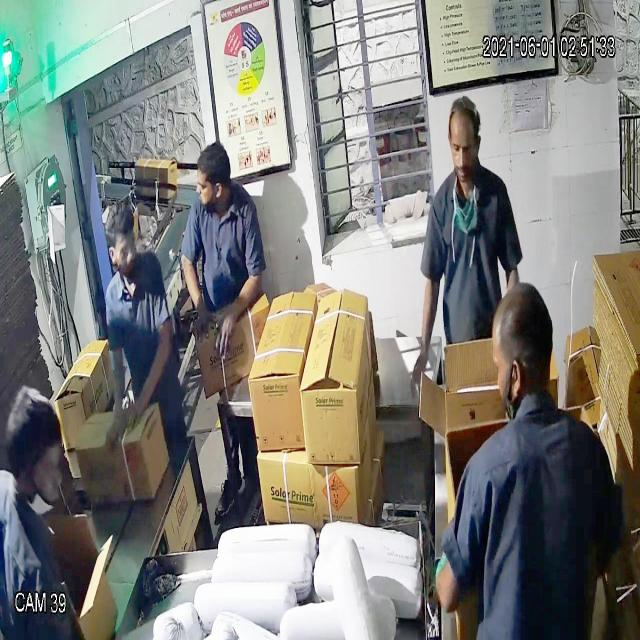glasses: (97, 233, 145, 271)
no-glass: (444, 127, 486, 171)
